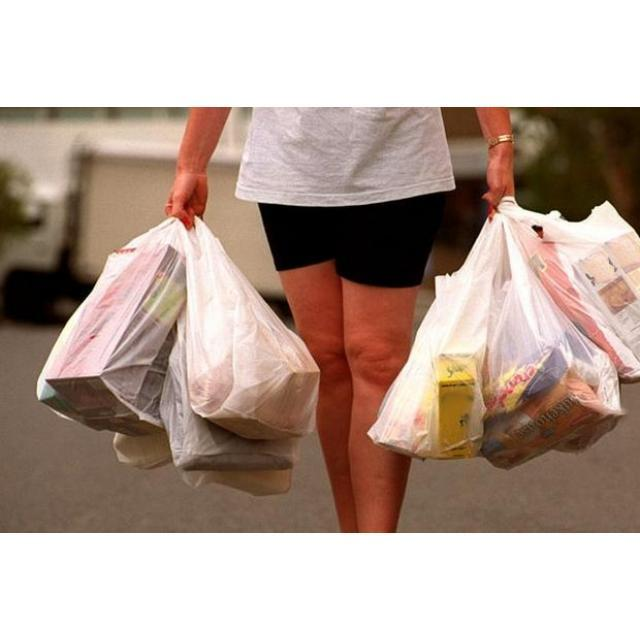Single-layer Plastic: (481, 211, 624, 468), (38, 219, 186, 434), (369, 219, 502, 458), (185, 219, 319, 439), (499, 200, 640, 381), (160, 312, 298, 495)
